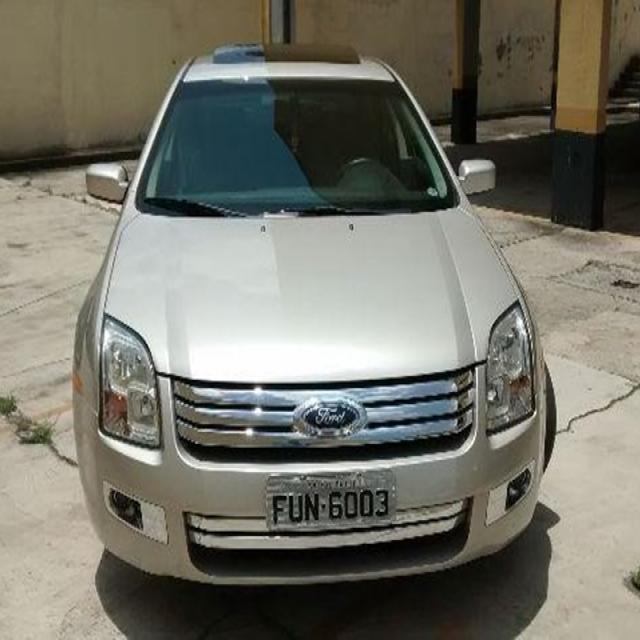Placa: (265, 465, 398, 533)
